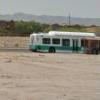Bus: (23, 26, 91, 61)
